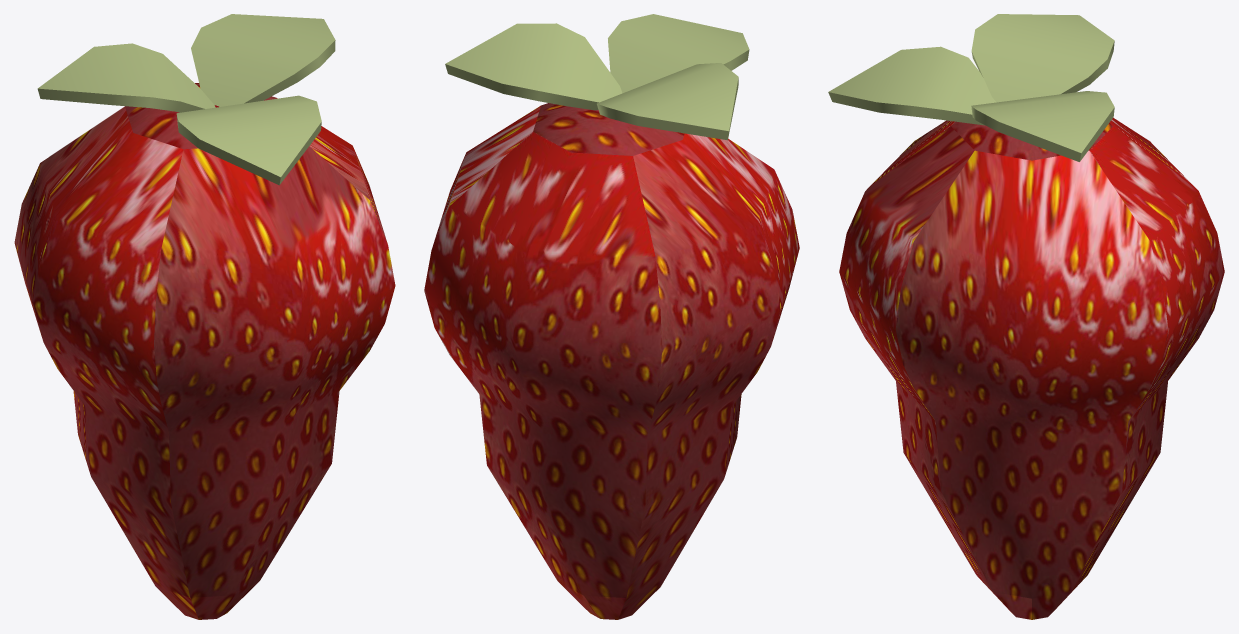
File: Strawberry Model.fbx
The picture shows the model from 3 angles, left to right: view 1: azimuth 30°, elevation 25°; view 2: azimuth 150°, elevation 25°; view 3: azimuth 270°, elevation 25°; orthographic projection. The views are drawn at different scales.
Visible parts, largest first — view 1: Strawberry; view 2: Strawberry; view 3: Strawberry.
Boxes of the visible parts, <box> form: Strawberry: <box>14,14,395,619</box>; Strawberry: <box>424,14,799,619</box>; Strawberry: <box>828,14,1224,619</box>.
Bounding box in the file's own units: 2.89 × 4.49 × 2.97.
1 material, 1 textured.
